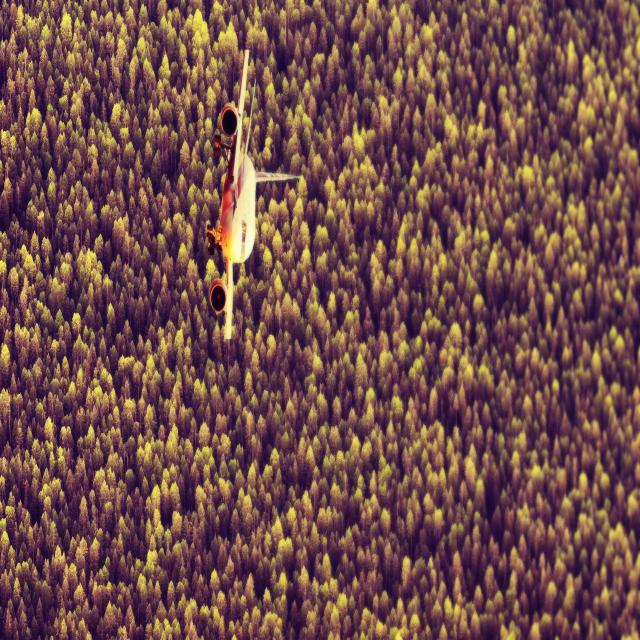airplane: (205, 48, 302, 340)
